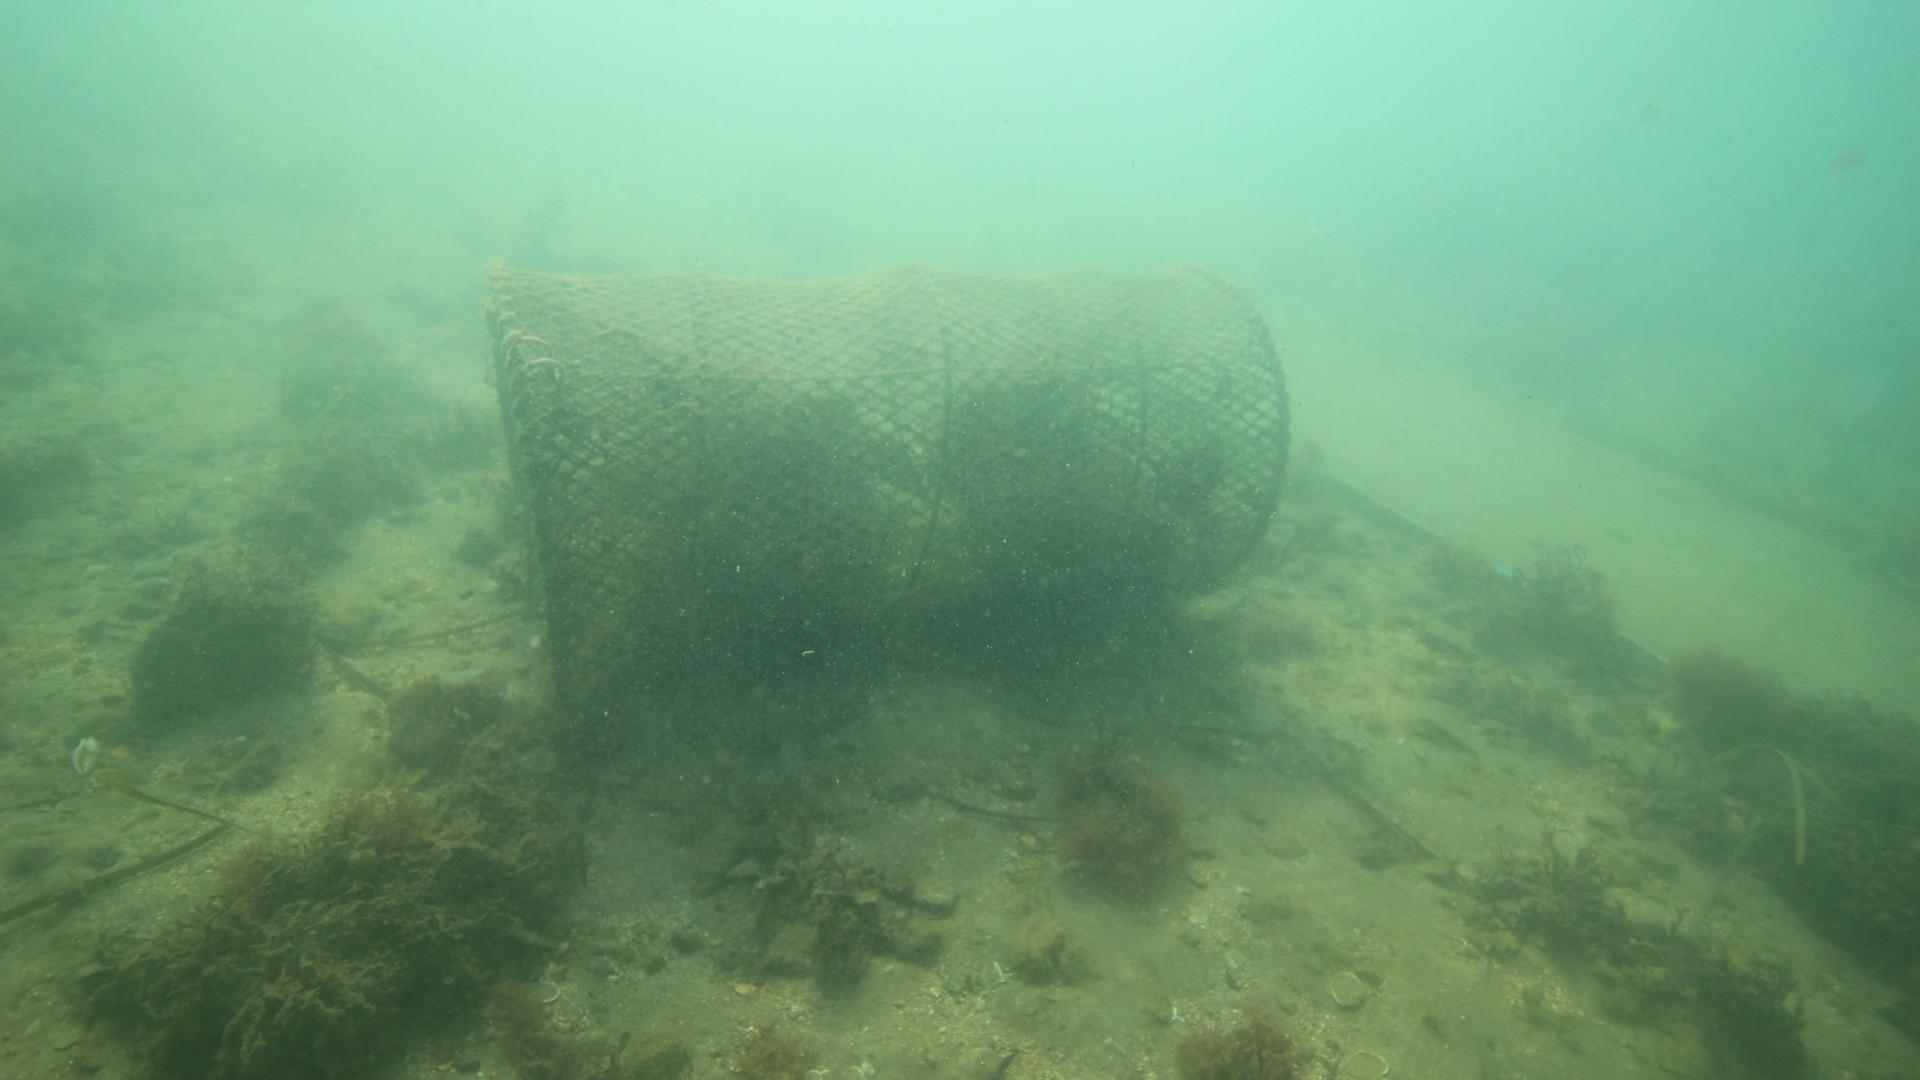spring fish trap: (479, 258, 1288, 704)
